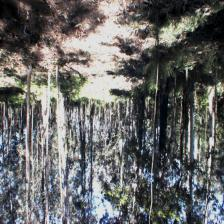trunktrack_idkeyframe: (159, 88, 168, 142), (26, 65, 32, 140)
